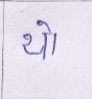o_matra: (45, 21, 60, 56)
